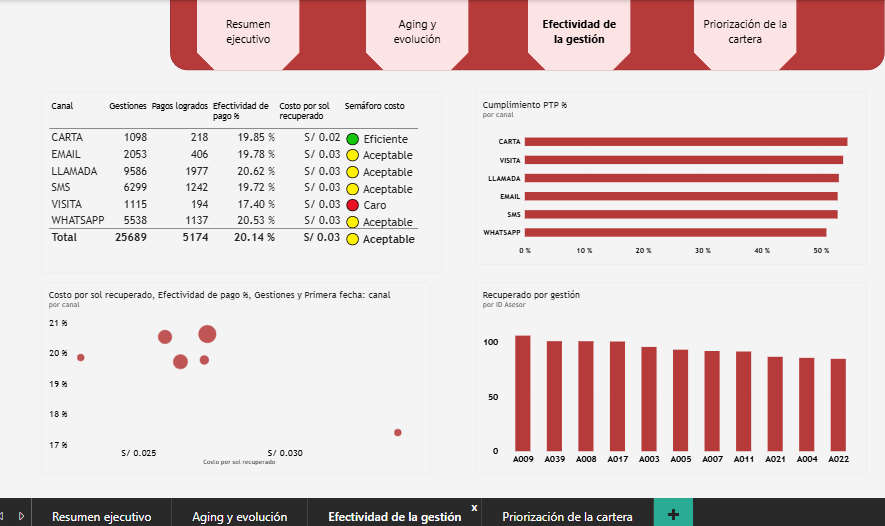

Layout of this report page (visuals, bound fields, positions):
{"tool":"powerbi","page":{"name":"Efectividad de la gestión","canvas":[1920,1080],"ordinal":2},"visuals":[{"type":"tableEx","fields":{"Values":["dim_canal.canal","_Medidas.Gestiones","_Medidas.Pagos logrados","_Medidas.Efectividad de pago %","_Medidas.Costo por sol recuperado","_Medidas.Semáforo costo"]},"box":[90,200,870,392.5],"z":0},{"type":"scatterChart","fields":{"Category":["dim_canal.canal"],"Size":["_Medidas.Gestiones"],"X":["_Medidas.Costo por sol recuperado"],"Y":["_Medidas.Efectividad de pago %"]},"box":[90,612.5,845,415],"z":1000},{"type":"clusteredColumnChart","fields":{"Category":["dim_asesor.asesor_id"],"Y":["_Medidas.Recuperado por gestión"]},"box":[1032.5,612.5,850,415],"z":2000},{"type":"clusteredBarChart","fields":{"Category":["dim_canal.canal"],"Y":["_Medidas.Cumplimiento PTP %"]},"box":[1032.5,200,850,375],"z":3000},{"type":"shape","box":[370,0,1550,152.5],"z":4000},{"type":"shape","box":[430,0,222.5,152.5],"z":5000},{"type":"shape","box":[795,0,222.5,152.5],"z":6000},{"type":"shape","box":[1147.5,0,222.5,152.5],"z":7000},{"type":"shape","box":[1507.5,0,222.5,152.5],"z":8000}]}

Visuals, with their boxes on the page's 1920x1080 design canvas (x1, y1, x2, y2). These are canvas units, not pixel positions in the 885x526 screenshot, which may show the page scaled, cropped or inside an application window:
tableEx - dim_canal.canal x _Medidas.Gestiones: <bbox>90, 200, 960, 592</bbox>
scatterChart - dim_canal.canal x _Medidas.Gestiones: <bbox>90, 612, 935, 1028</bbox>
clusteredColumnChart - dim_asesor.asesor_id x _Medidas.Recuperado por gestión: <bbox>1032, 612, 1882, 1028</bbox>
clusteredBarChart - dim_canal.canal x _Medidas.Cumplimiento PTP %: <bbox>1032, 200, 1882, 575</bbox>
shape: <bbox>370, 0, 1920, 152</bbox>
shape: <bbox>430, 0, 652, 152</bbox>
shape: <bbox>795, 0, 1018, 152</bbox>
shape: <bbox>1148, 0, 1370, 152</bbox>
shape: <bbox>1508, 0, 1730, 152</bbox>
